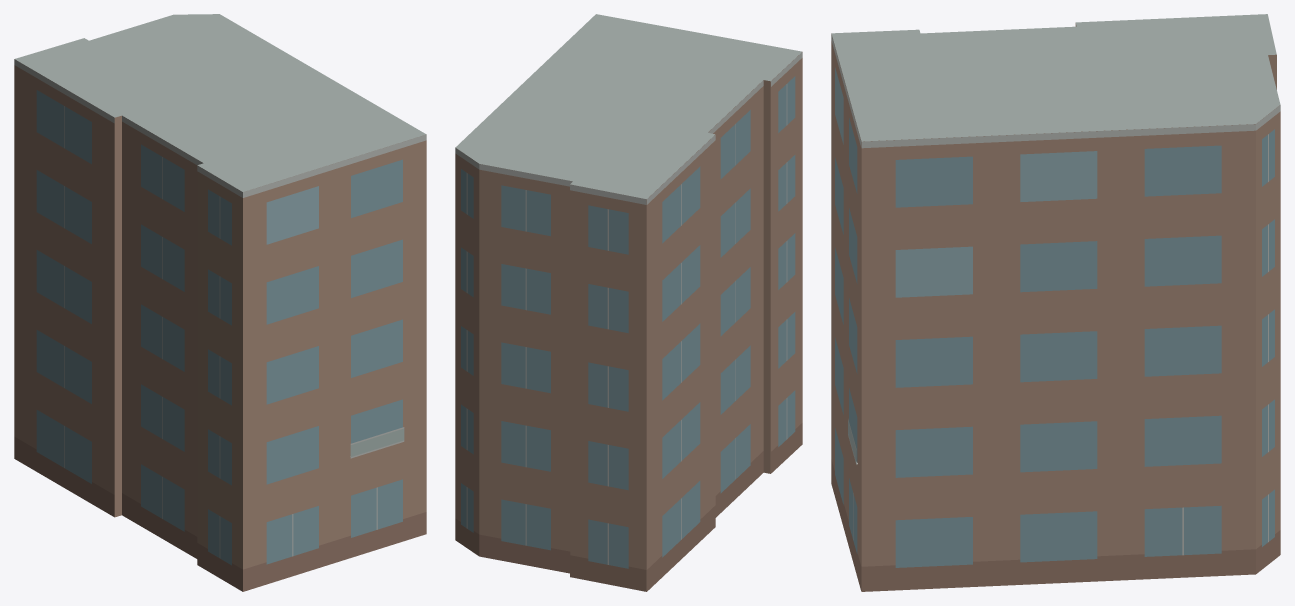
Rendered from survey-upis-32790805.glb.
The picture shows the model from 3 angles, left to right: view 1: azimuth 30°, elevation 25°; view 2: azimuth 150°, elevation 25°; view 3: azimuth 270°, elevation 25°; orthographic projection. The views are drawn at different scales.
Visible parts, largest first — view 1: survey-upis-32790805.tmp; view 2: survey-upis-32790805.tmp; view 3: survey-upis-32790805.tmp.
Boxes of the visible parts, <box> form: survey-upis-32790805.tmp: <box>14,14,426,591</box>; survey-upis-32790805.tmp: <box>455,14,802,591</box>; survey-upis-32790805.tmp: <box>831,14,1280,591</box>.
Size of the model in its own units: 9.96 by 16.38 by 14.81.
